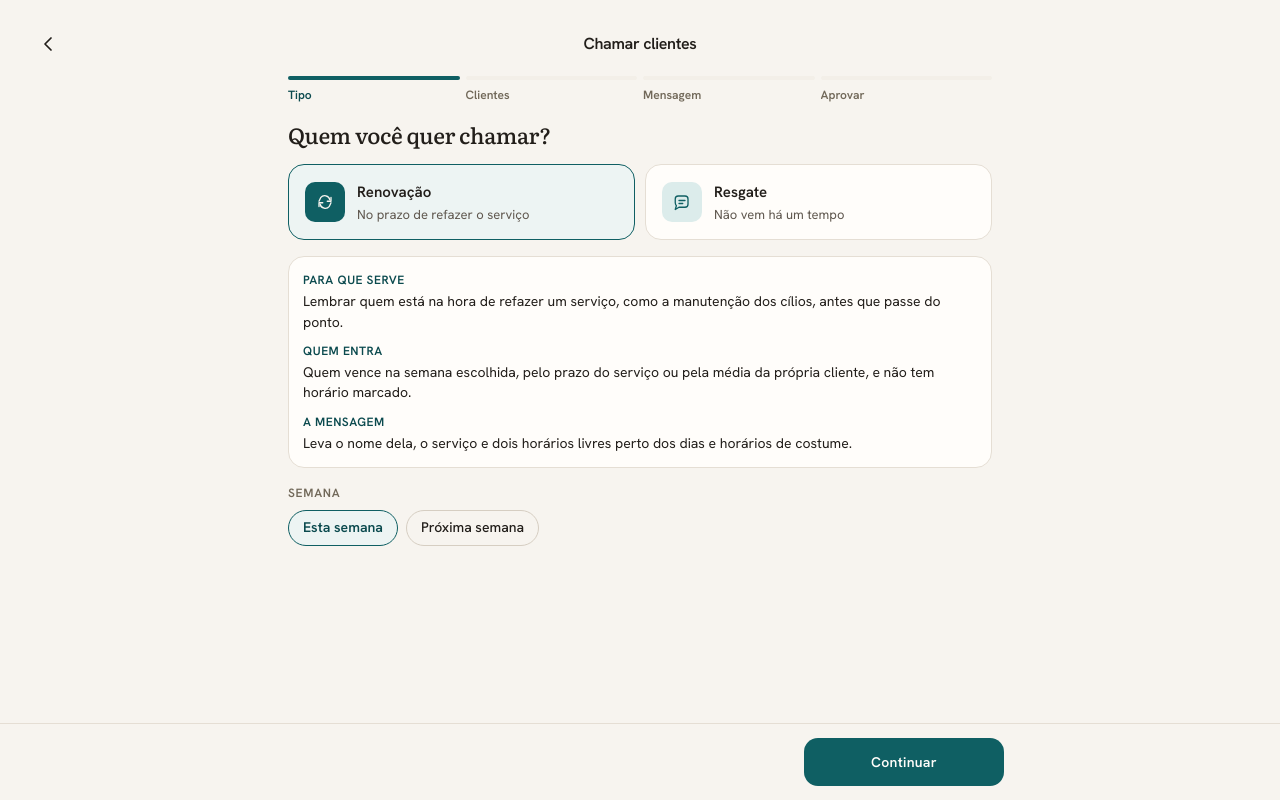
Test: Retorno de clientes › etapas (D-212) › continuar leva o foco ao título da etapa; voltar guarda o que foi desmarcado
This screenshot has width=1280, height=800.
Click the button "Continuar".
click(904, 762)  # box [804,738,1004,786]
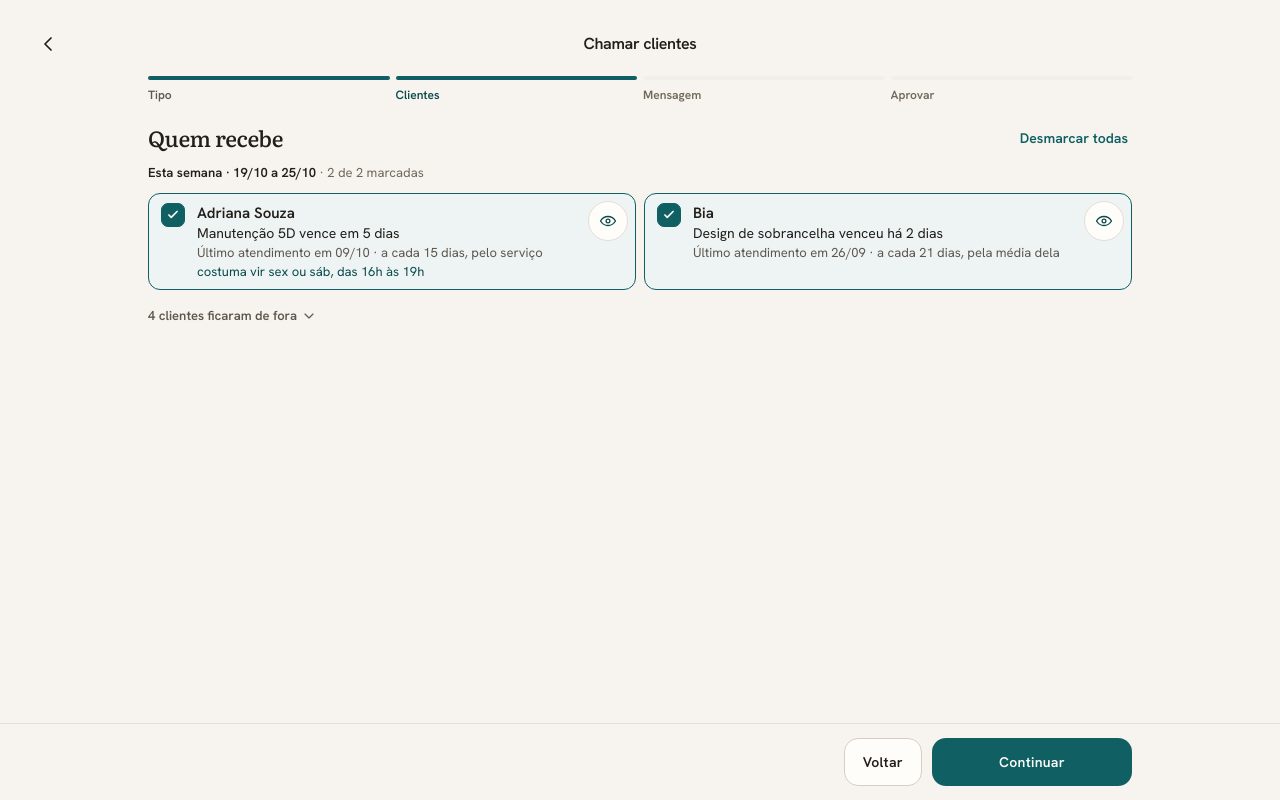
Expected: the text "Adriana Souza" is shown, [197,203,295,223]
Click the checkbox labelled "Bia".
click(888, 241)  # box [644,193,1132,290]
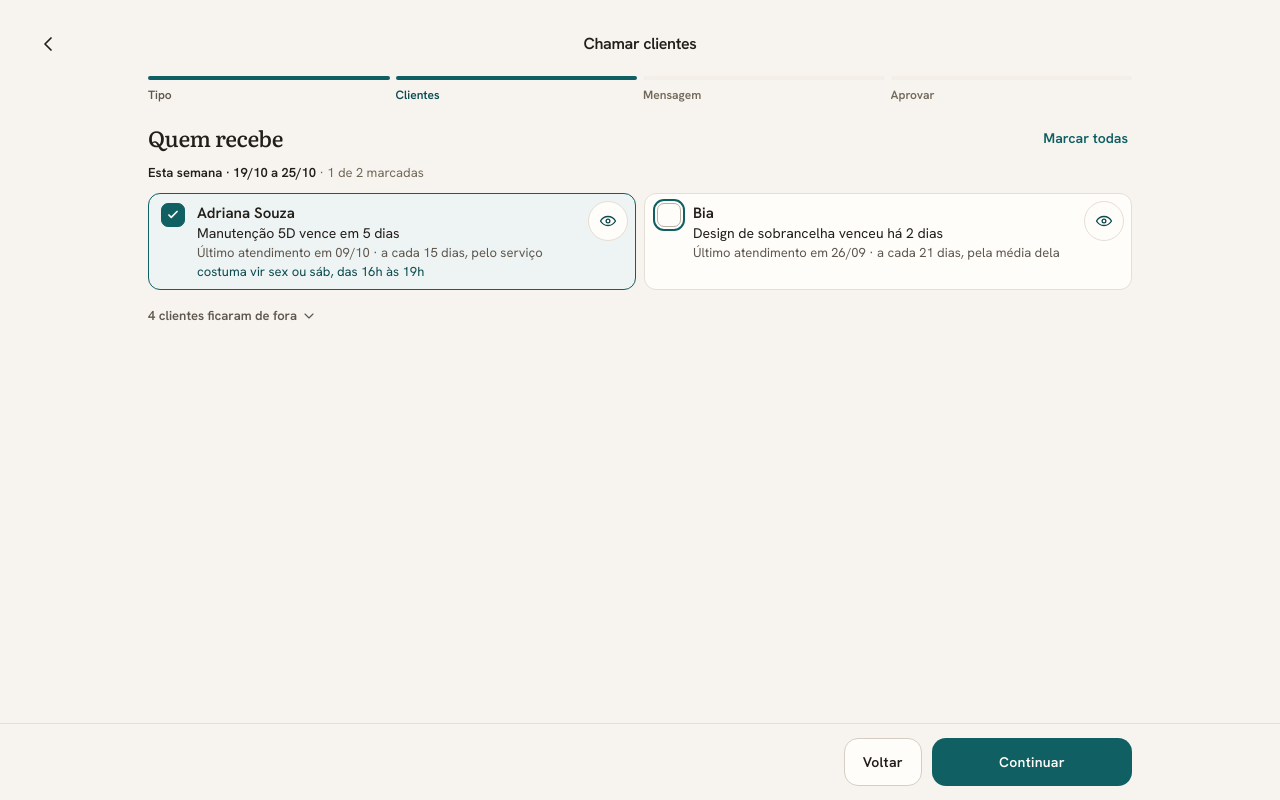
Click the button "Continuar".
click(1032, 762)  # box [932,738,1132,786]
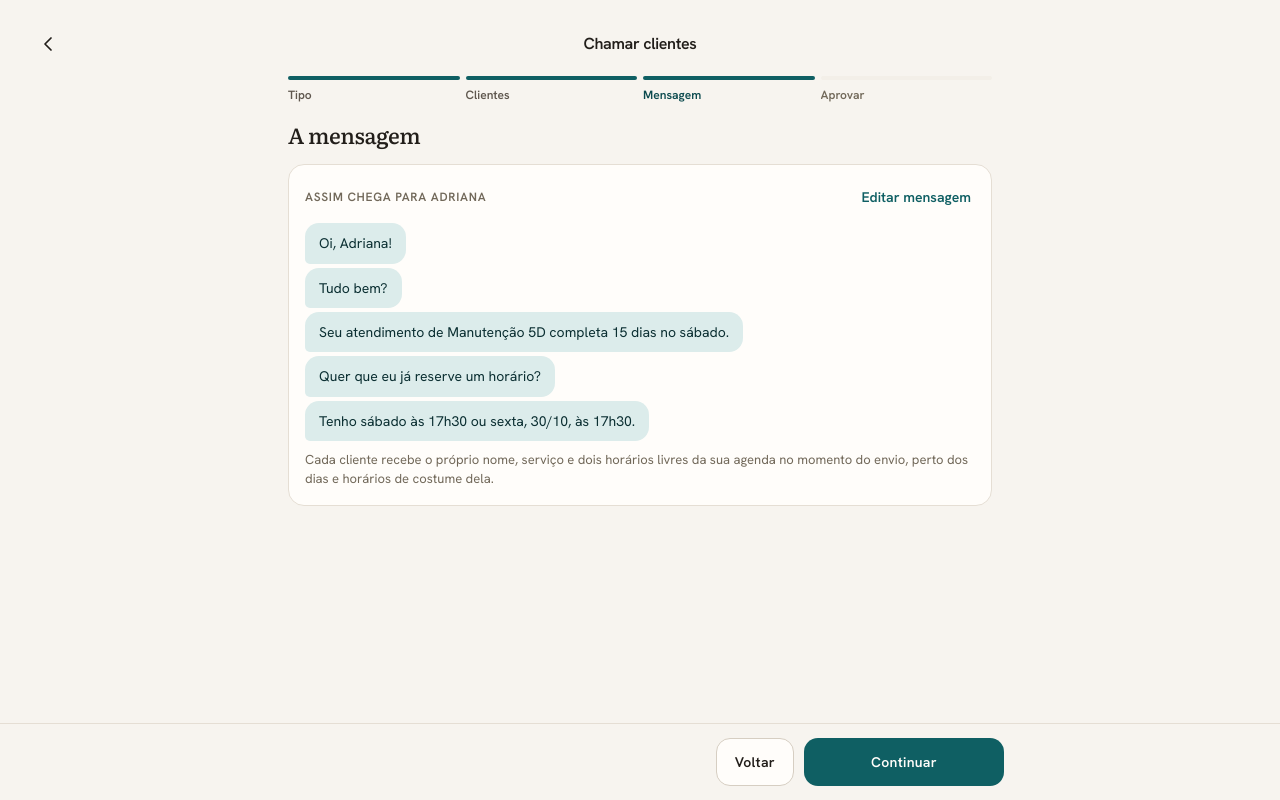
Click the button "Voltar".
click(755, 762)  # box [716,738,794,786]
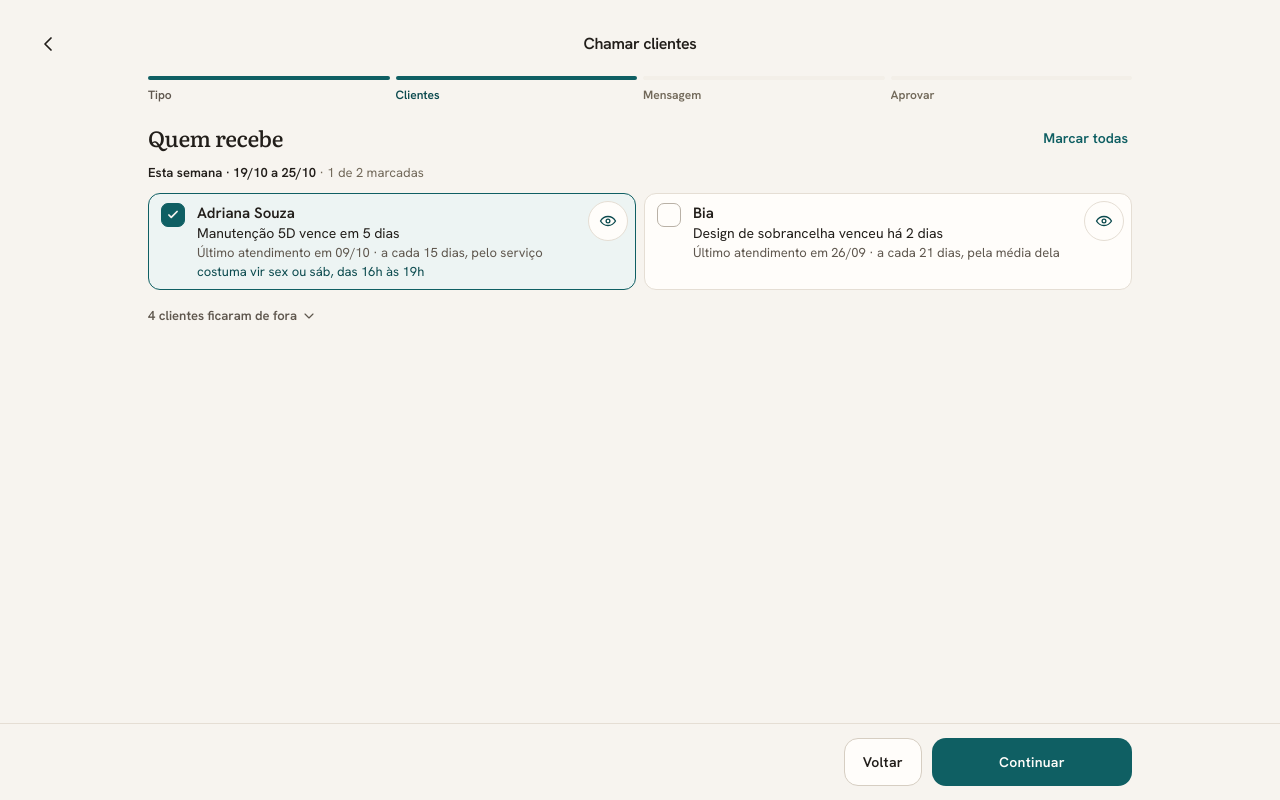
Expected: the checkbox labelled "Bia" is not checked, [644,193,1132,290]
Expected: the text "· 1 de 2 marcadas" is shown, [316,164,424,181]
